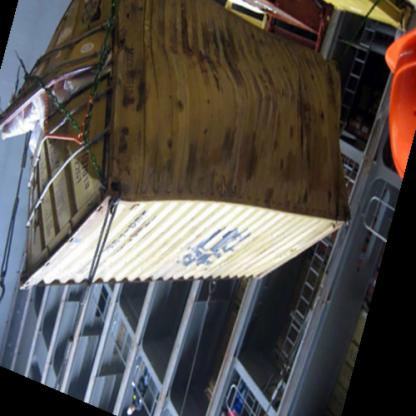Damage: (136, 119, 325, 194), (2, 57, 120, 143), (142, 35, 278, 107)
